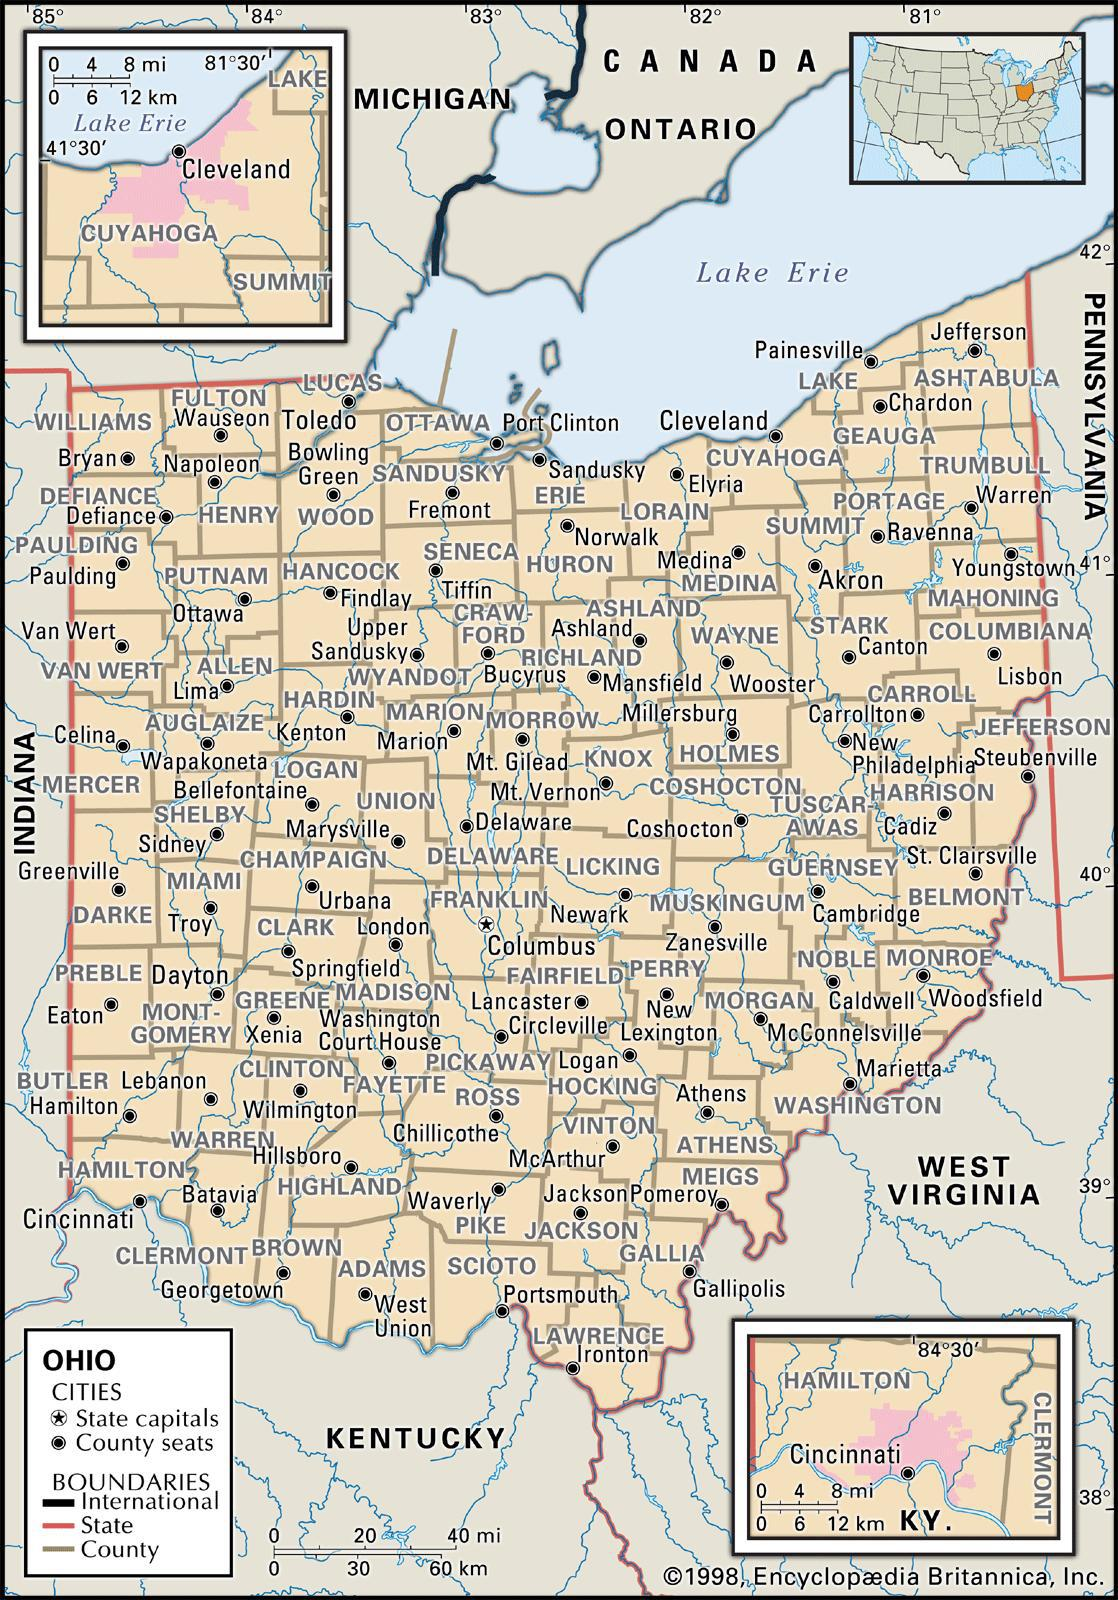ohio: (77, 289, 1067, 1416)
